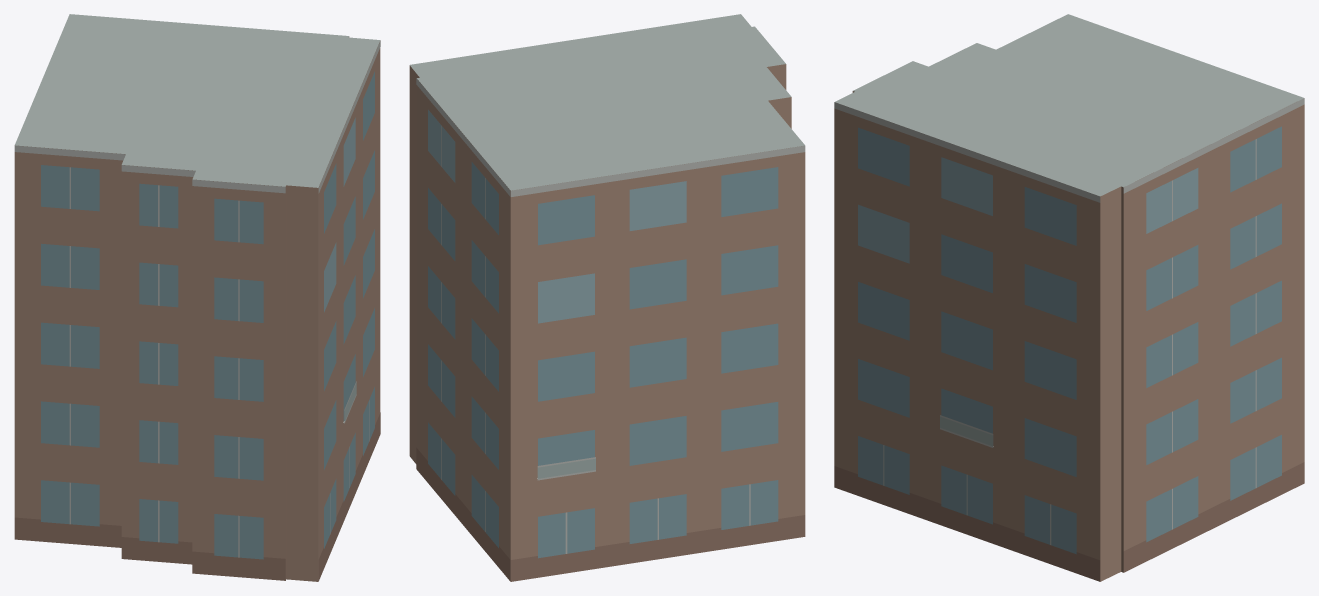
File: survey-upis-32933226.glb
3 renders of one model, left to right at view 1: azimuth 30°, elevation 25°; view 2: azimuth 150°, elevation 25°; view 3: azimuth 270°, elevation 25°, orthographic. The views are drawn at different scales.
Parts seen in each view (by area): view 1: survey-upis-32933226.tmp; view 2: survey-upis-32933226.tmp; view 3: survey-upis-32933226.tmp.
Part boxes in pixels (x1=…): survey-upis-32933226.tmp: x1=14, y1=14, x2=380, y2=581; survey-upis-32933226.tmp: x1=409, y1=14, x2=805, y2=581; survey-upis-32933226.tmp: x1=834, y1=14, x2=1304, y2=581.
Bounding box in the file's own units: 14.83 × 14.6 × 16.15.
